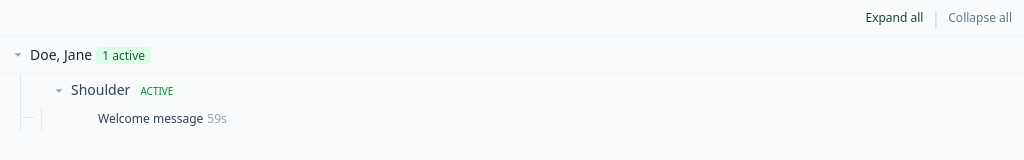
Test: ActivityTree › Collapse all hides all branches
The width and height of the screenshot is (1024, 160).
Click the button "Collapse all" at (980, 18), box [948,10,1012,26]
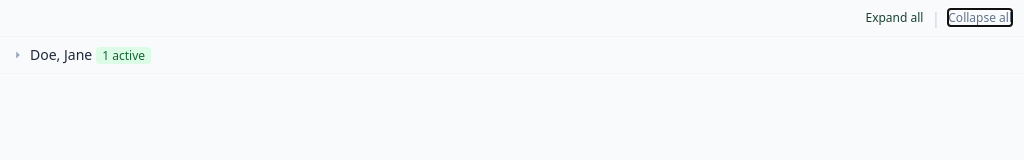
Check: the button "Shoulder" is gone
